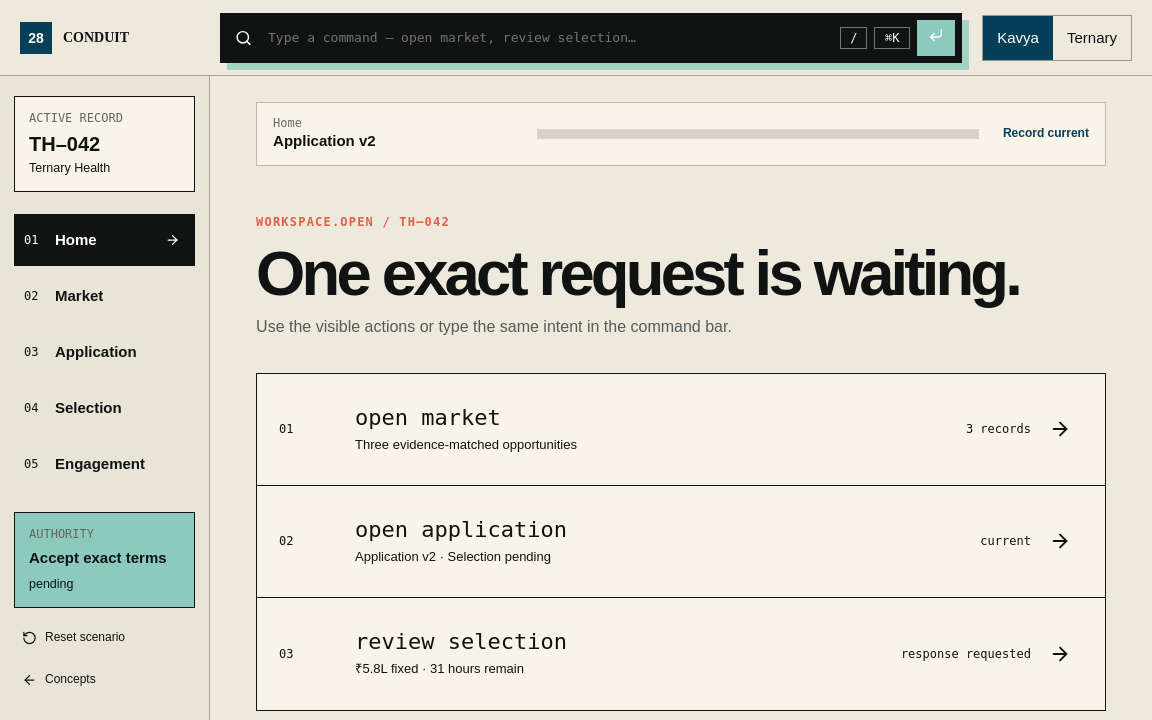
Test case: Command × Current concept interactions › focuses Conduit's command with slash and exposes safe invalid suggestions
This screenshot has width=1152, height=720.
Expected: the field named "Conduit command input" is shown, 266,29 -> 833,46
Press /
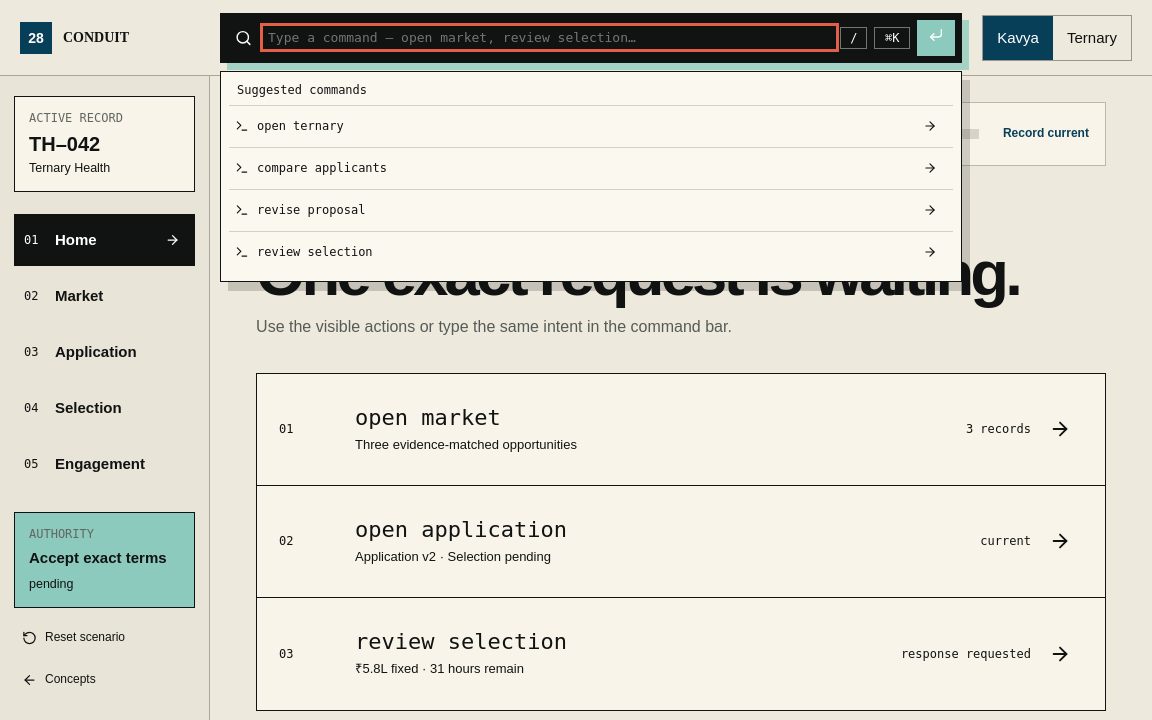
Type "delete everything" into the field named "Conduit command input" at (550, 38), box 266,29 -> 833,46
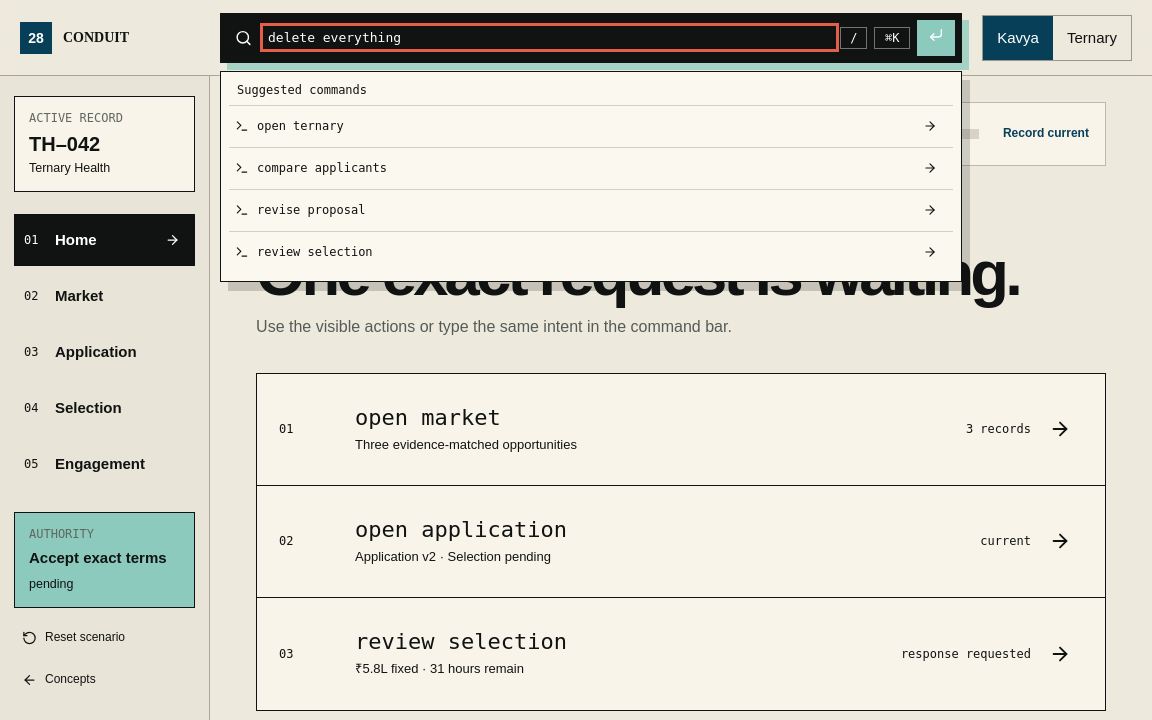
Click the button named "Run command" at (936, 38), box 917,20 -> 955,56
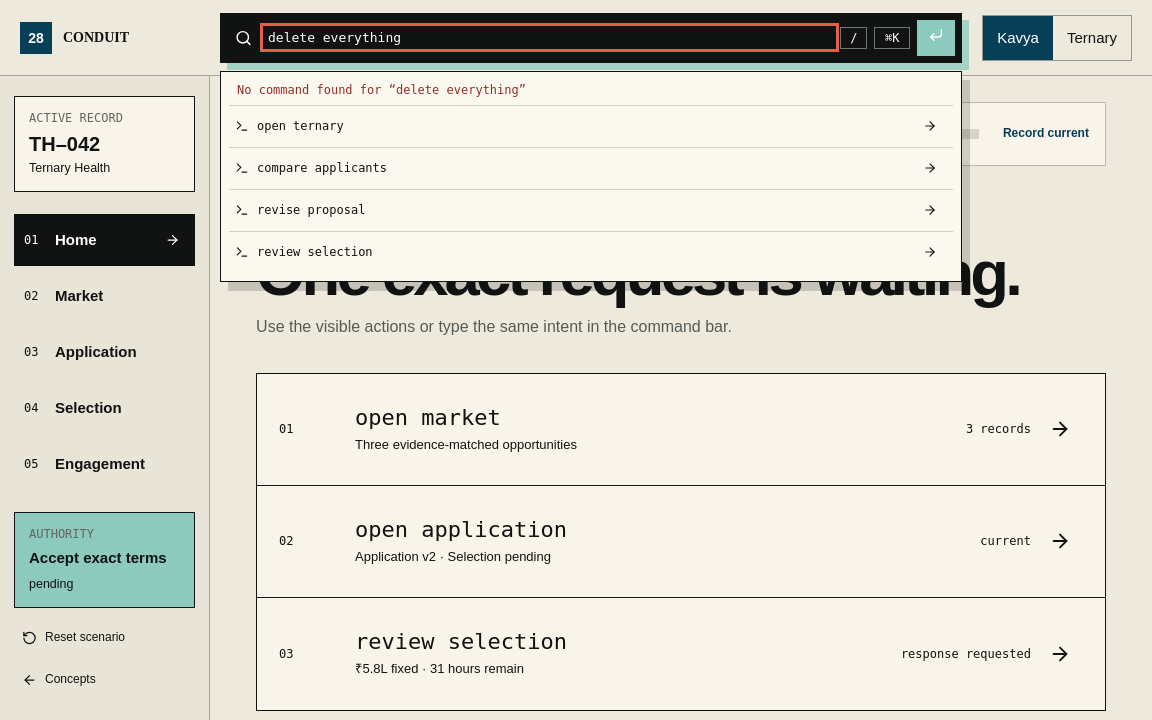
Now the element named "Suggested commands" is shown, box 220,70 -> 962,282
Now the text "No command found for “delete everything”" is shown, box 237,82 -> 526,96
